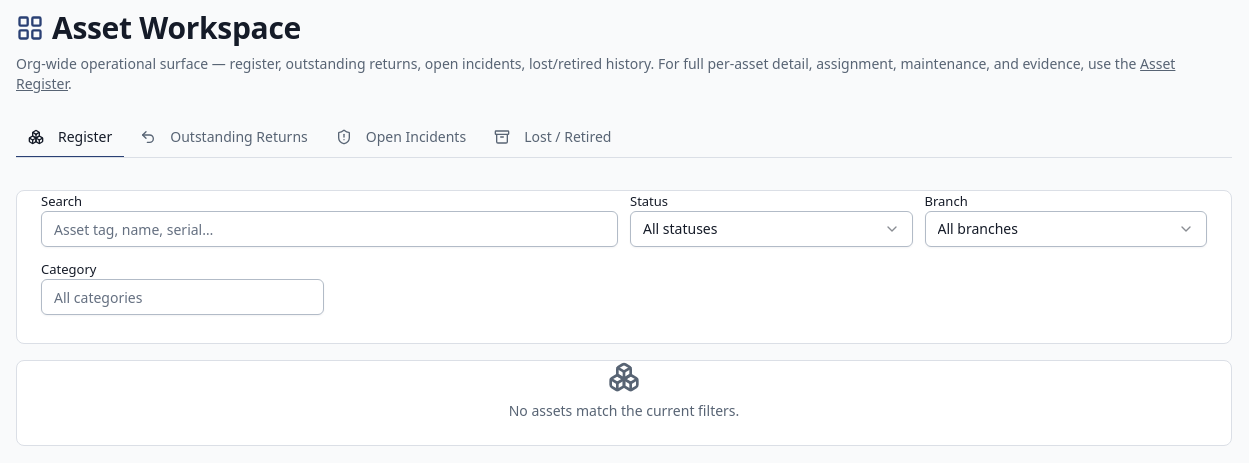
Test: Asset Workspace page › Open Incidents tab › shows an empty state when there are no open incidents
What coordinates should you click on to do the following:
click the tab with test id "tab-workspace-incidents"
I would click on:
 (401, 138)
Its box is [324,118,478,158].
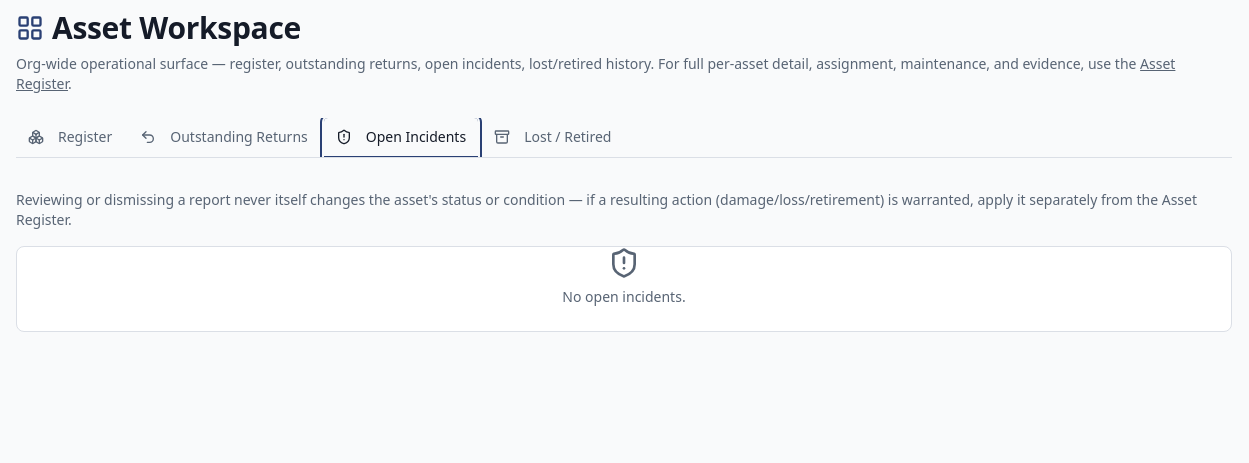
Now the text "No open incidents." is shown, box [562,287,686,307]
